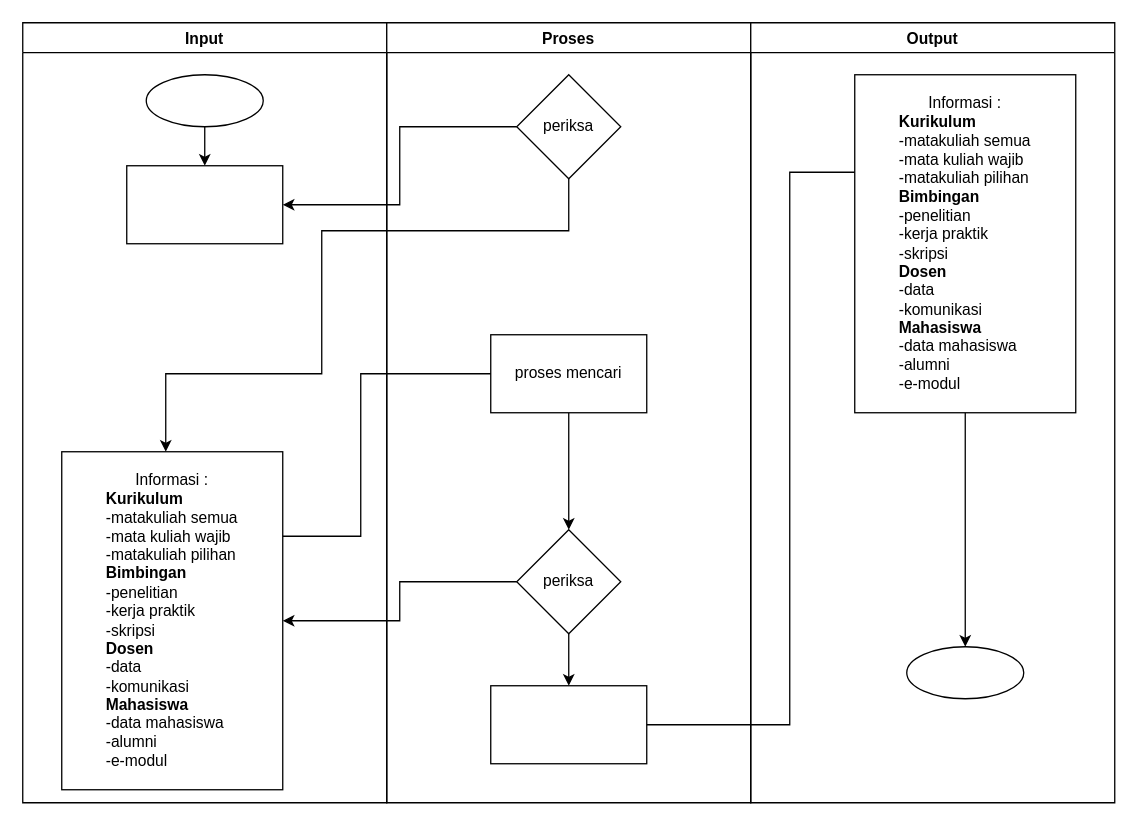
This 1138x826 diagram has some shape labels left out. The shapes that lost their labels are listed below. From the top down, each one's box as (x1, y1, x2, y2) in pixels, then its label:
(145, 73, 263, 127): Mulai
(125, 164, 283, 244): masukan username dan password
(905, 645, 1024, 699): Selesai
(489, 684, 647, 764): database
